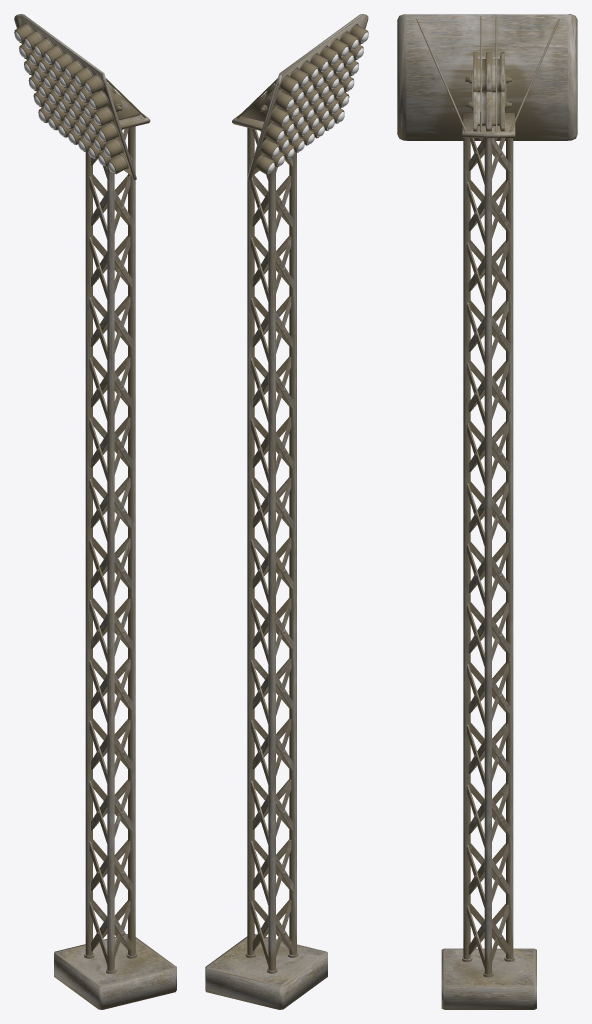
Rendered from Floodlight.fbx.
3 views of the same model, side by side, from view 1: azimuth 30°, elevation 25°; view 2: azimuth 150°, elevation 25°; view 3: azimuth 270°, elevation 25° (orthographic).
Visible parts, largest first — view 1: FloodLight; view 2: FloodLight; view 3: FloodLight.
Boxes of the visible parts, x1,y1,x2,y2 form: FloodLight: [14, 14, 176, 1009]; FloodLight: [205, 14, 368, 1009]; FloodLight: [397, 14, 577, 1009].
Size of the model in its own units: 32.38 by 282 by 48.42.
Materials: 3 (2 with a texture image).
